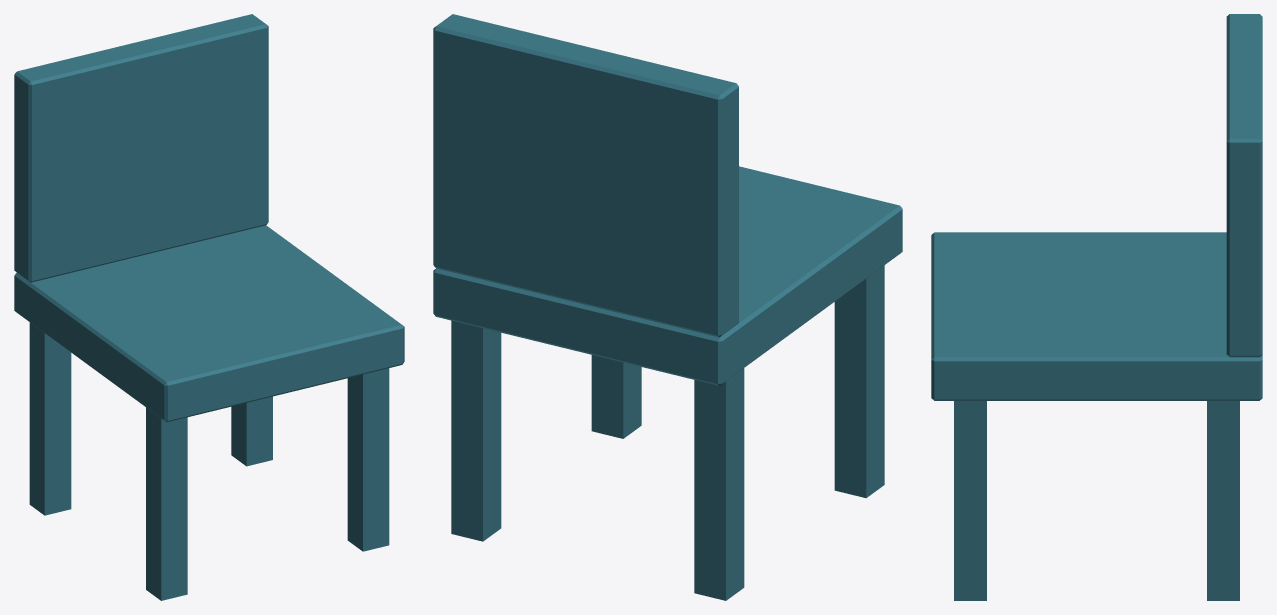
Rendered from chair.v1.glb.
3 renders of one model, left to right at view 1: azimuth 30°, elevation 25°; view 2: azimuth 150°, elevation 25°; view 3: azimuth 270°, elevation 25°, orthographic. The views are drawn at different scales.
Parts seen in each view (by area): view 1: mesh_back, mesh_seat, mesh_leg_-0.21_0.21, mesh_leg_0.21_0.21, mesh_leg_-0.21_-0.21, mesh_leg_0.21_-0.21; view 2: mesh_back, mesh_seat, mesh_leg_-0.21_-0.21, mesh_leg_0.21_-0.21, mesh_leg_-0.21_0.21, mesh_leg_0.21_0.21; view 3: mesh_seat, mesh_back, mesh_leg_0.21_-0.21, mesh_leg_0.21_0.21.
Part boxes in pixels (x1,y1,x2,y2): mesh_back: (14,14,268,282); mesh_seat: (14,225,404,422); mesh_leg_-0.21_0.21: (146,407,187,600); mesh_leg_0.21_0.21: (347,368,389,551); mesh_leg_-0.21_-0.21: (29,322,71,515); mesh_leg_0.21_-0.21: (231,396,272,466); mesh_back: (433,14,738,337); mesh_seat: (433,166,902,385); mesh_leg_-0.21_-0.21: (694,368,744,600); mesh_leg_0.21_-0.21: (451,320,501,541); mesh_leg_-0.21_0.21: (834,265,884,498); mesh_leg_0.21_0.21: (591,355,641,438); mesh_seat: (931,232,1262,400); mesh_back: (1226,14,1262,357); mesh_leg_0.21_-0.21: (1207,401,1239,600); mesh_leg_0.21_0.21: (954,401,986,600).
Size of the model in its own units: 0.5 by 0.85 by 0.55.
